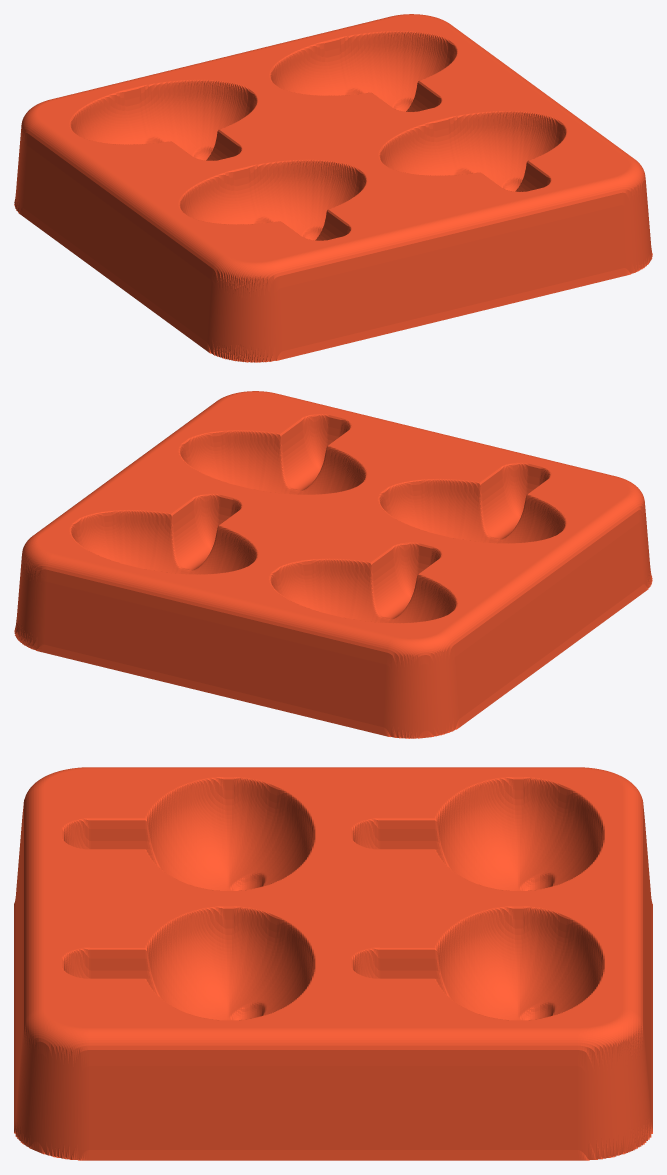
Rendered from mold.glb.
3 renders of one model, top to bottom at view 1: azimuth 30°, elevation 25°; view 2: azimuth 150°, elevation 25°; view 3: azimuth 270°, elevation 25°, orthographic. The views are drawn at different scales.
Parts seen in each view (by area): view 1: geometry_0; view 2: geometry_0; view 3: geometry_0.
Part boxes in pixels (<box>): geometry_0: <box>14,14,652,362</box>; geometry_0: <box>14,391,652,738</box>; geometry_0: <box>14,767,652,1160</box>.
Bounding box in the file's own units: 0.0808 × 0.0159 × 0.0768.
